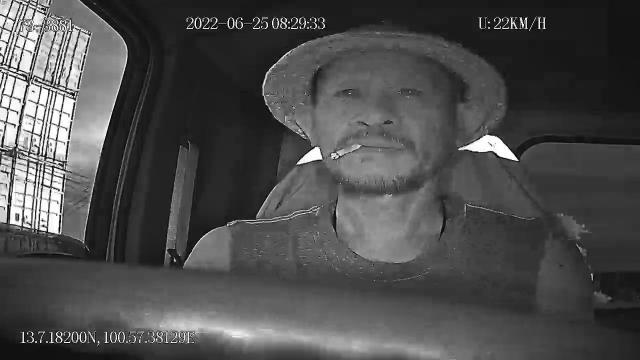SafeDriving: (329, 80, 366, 104), (391, 80, 428, 103)
Smoking: (329, 142, 361, 160)
